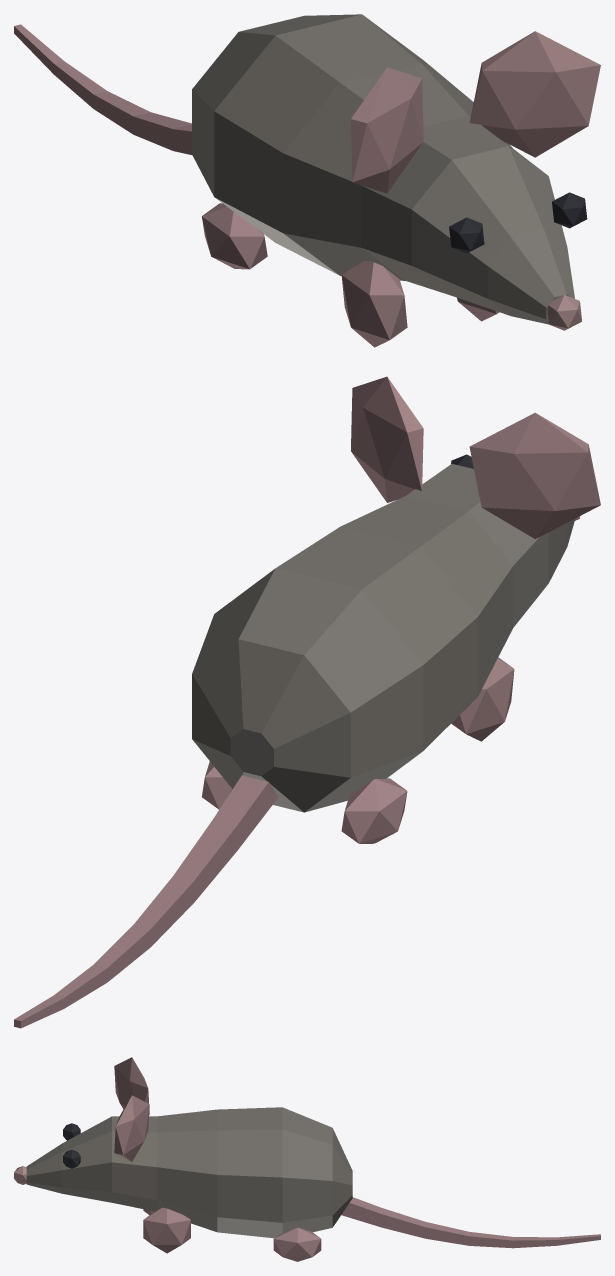
File: Mouse.fbx
3 renders of one model, top to bottom at view 1: azimuth 30°, elevation 25°; view 2: azimuth 150°, elevation 25°; view 3: azimuth 270°, elevation 25°, orthographic. The views are drawn at different scales.
Visible parts, largest first — view 1: Mouse_Body, Tail; view 2: Mouse_Body, Tail; view 3: Mouse_Body, Tail.
Part boxes in pixels (x1,y1,x2,y2): Mouse_Body: (192,14,600,347); Tail: (14,24,191,154); Mouse_Body: (192,376,600,843); Tail: (14,775,278,1028); Mouse_Body: (14,1057,352,1261); Tail: (341,1197,600,1248).
Bounding box in the file's own units: 0.0605 × 0.2341 × 0.0749.
